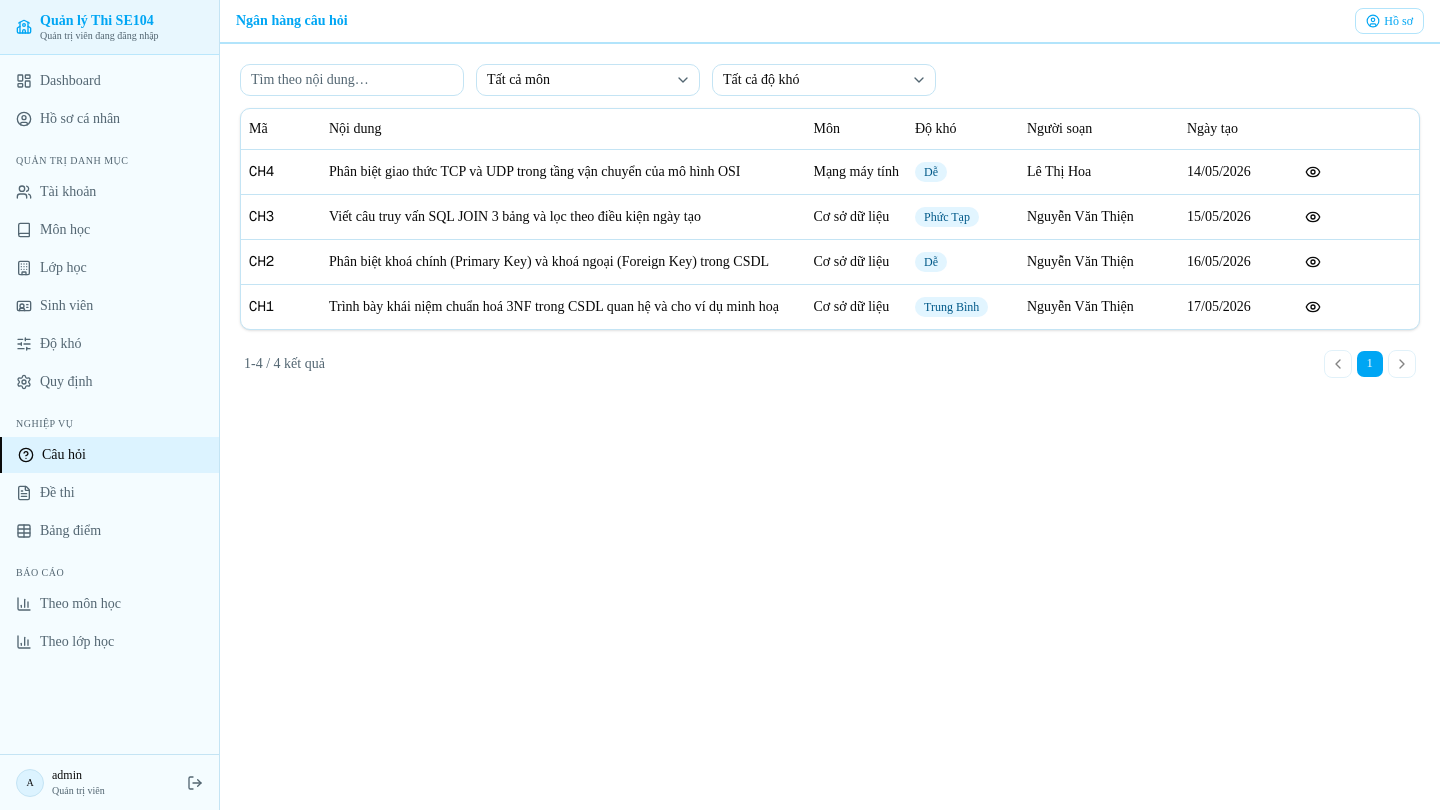
Scenario: QuestionsPage › clicking Xem opens the QuestionDetailModal with full content
Check: the text "3NF" is shown, box x1=329 y1=298 x2=779 y2=314
Click the button named "Xem" in the row of "Mạng máy tính": (1313, 172) x1=1299 y1=158 x2=1327 y2=186
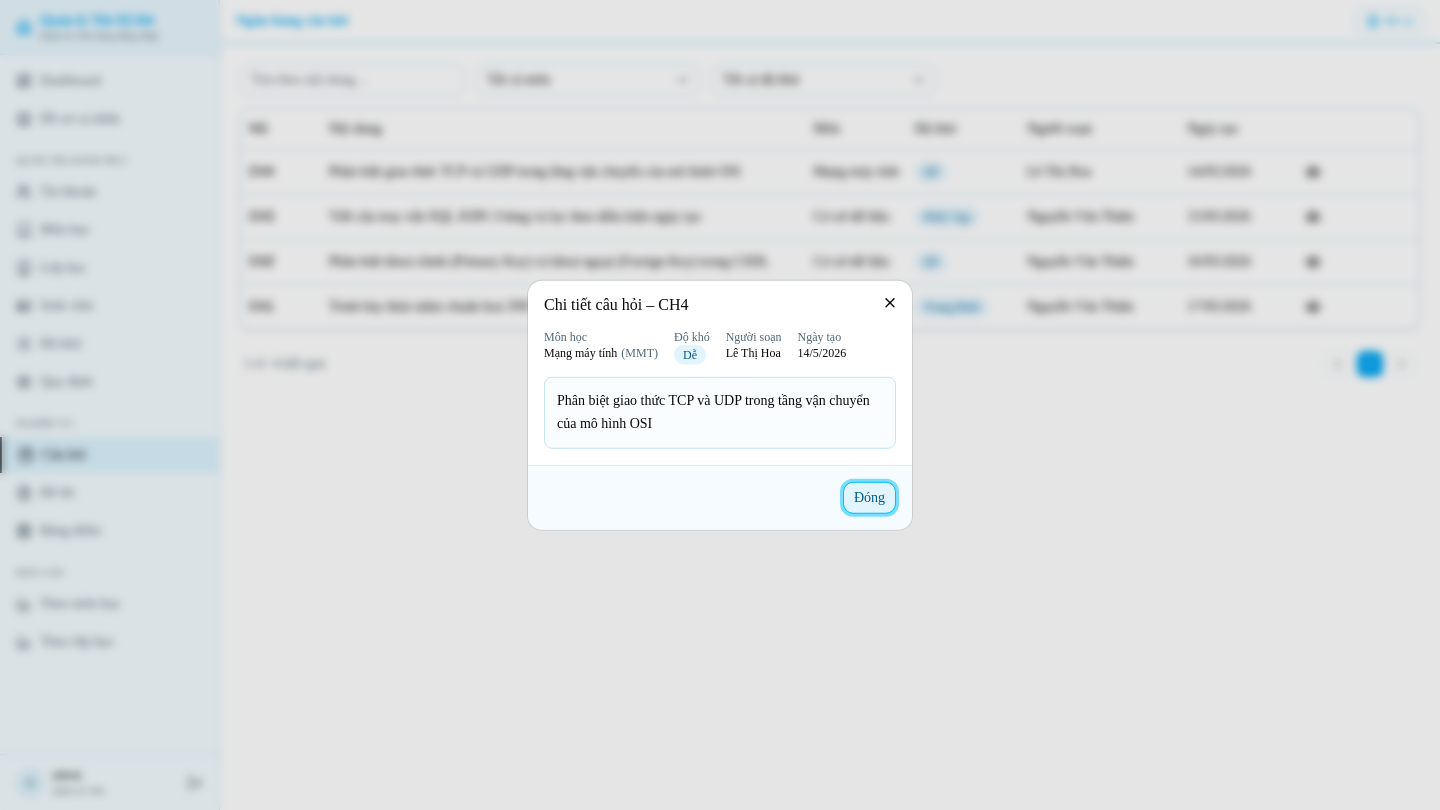
Check: the heading "Chi tiết câu hỏi – CH4" is shown, box x1=544 y1=296 x2=688 y2=313
